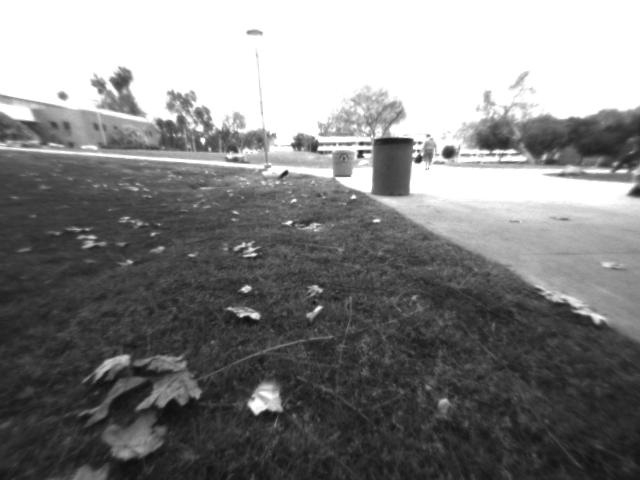trashcan: (371, 137, 412, 196), (332, 148, 361, 182)
